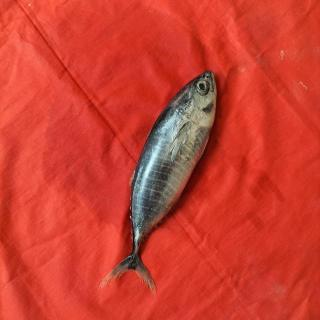Ikan: (98, 62, 230, 300)
